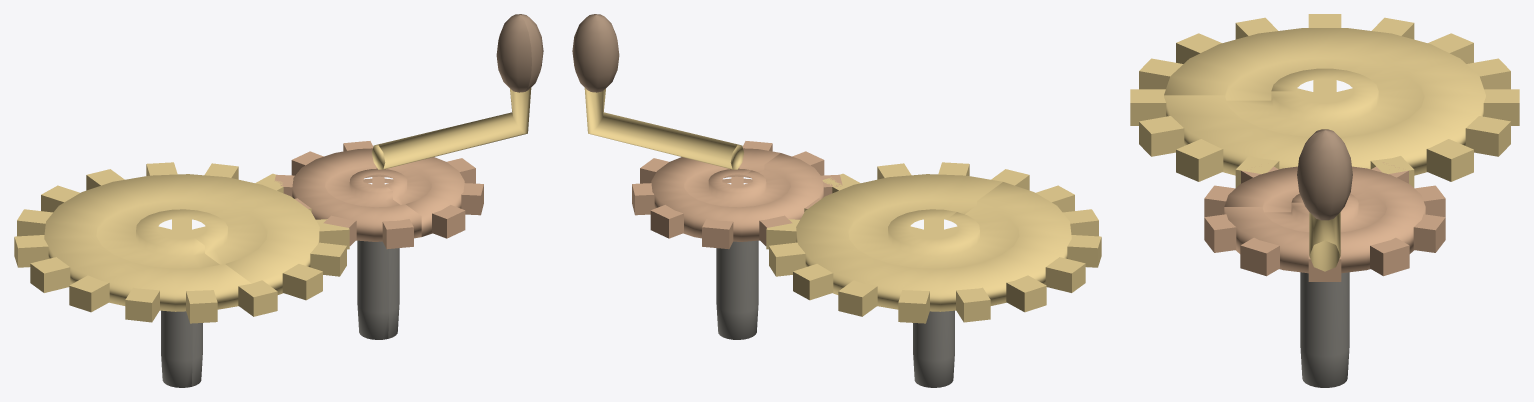
The model's file is orrery_tray_wings.glb.
3 views of the same model, side by side, from view 1: azimuth 30°, elevation 25°; view 2: azimuth 150°, elevation 25°; view 3: azimuth 270°, elevation 25° (orthographic). The views are drawn at different scales.
Parts seen in each view (by area): view 1: Orrery_Gear_Drive, Orrery_Gear_Pinion, Orrery_Gear_Bearings, Orrery_Crank_Arm, Orrery_Crank_Handle; view 2: Orrery_Gear_Drive, Orrery_Gear_Pinion, Orrery_Gear_Bearings, Orrery_Crank_Arm, Orrery_Crank_Handle; view 3: Orrery_Gear_Drive, Orrery_Gear_Pinion, Orrery_Gear_Bearings, Orrery_Crank_Handle, Orrery_Crank_Arm.
Boxes of the visible parts, x1=… form: Orrery_Gear_Drive: x1=14, y1=162, x2=349, y2=323; Orrery_Gear_Pinion: x1=274, y1=141, x2=483, y2=249; Orrery_Gear_Bearings: x1=161, y1=240, x2=399, y2=387; Orrery_Crank_Arm: x1=372, y1=88, x2=531, y2=169; Orrery_Crank_Handle: x1=496, y1=14, x2=543, y2=92; Orrery_Gear_Drive: x1=766, y1=162, x2=1101, y2=323; Orrery_Gear_Pinion: x1=632, y1=141, x2=842, y2=249; Orrery_Gear_Bearings: x1=716, y1=240, x2=954, y2=387; Orrery_Crank_Arm: x1=584, y1=88, x2=743, y2=169; Orrery_Crank_Handle: x1=572, y1=14, x2=619, y2=92; Orrery_Gear_Drive: x1=1130, y1=14, x2=1519, y2=187; Orrery_Gear_Pinion: x1=1204, y1=162, x2=1445, y2=281; Orrery_Gear_Bearings: x1=1300, y1=272, x2=1349, y2=387; Orrery_Crank_Handle: x1=1297, y1=129, x2=1352, y2=220; Orrery_Crank_Arm: x1=1309, y1=212, x2=1340, y2=271.
Size of the model in its own units: 0.2536 by 0.1361 by 0.1461.
